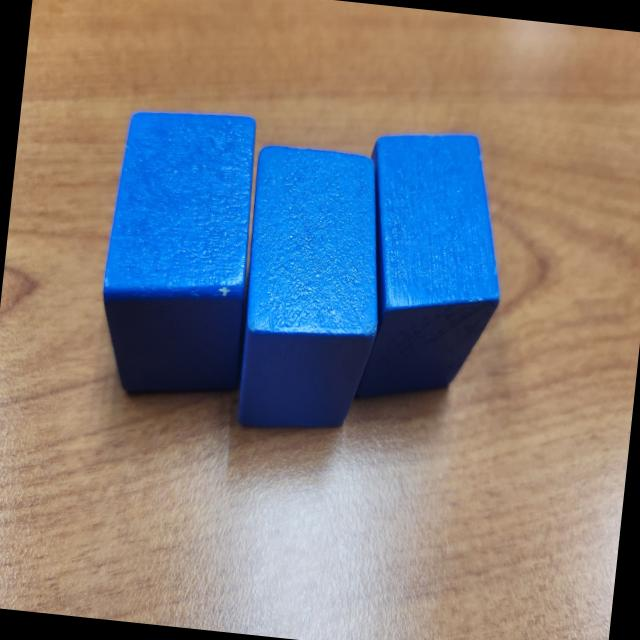blue: (92, 102, 268, 407), (344, 124, 516, 416), (228, 144, 396, 442)
